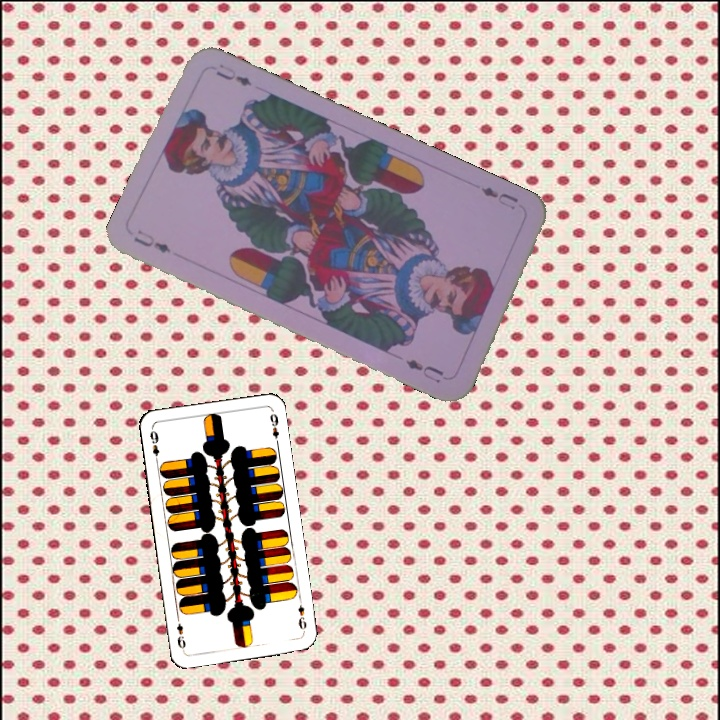E9: (146, 425, 162, 465), (294, 594, 309, 635)
EU: (129, 225, 174, 256), (477, 183, 521, 213)
